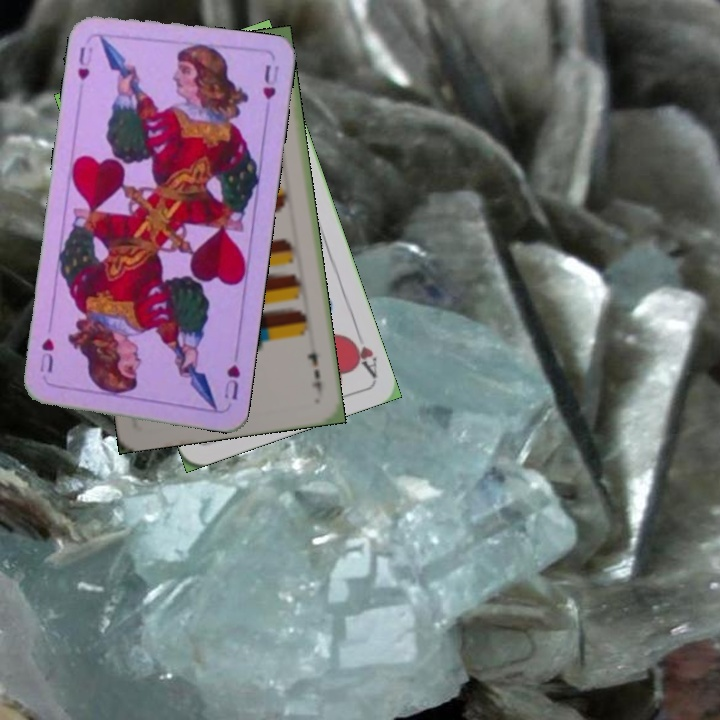E7: (303, 347, 325, 398)
HA: (343, 322, 380, 379)
HU: (220, 360, 243, 403), (73, 42, 95, 83)
